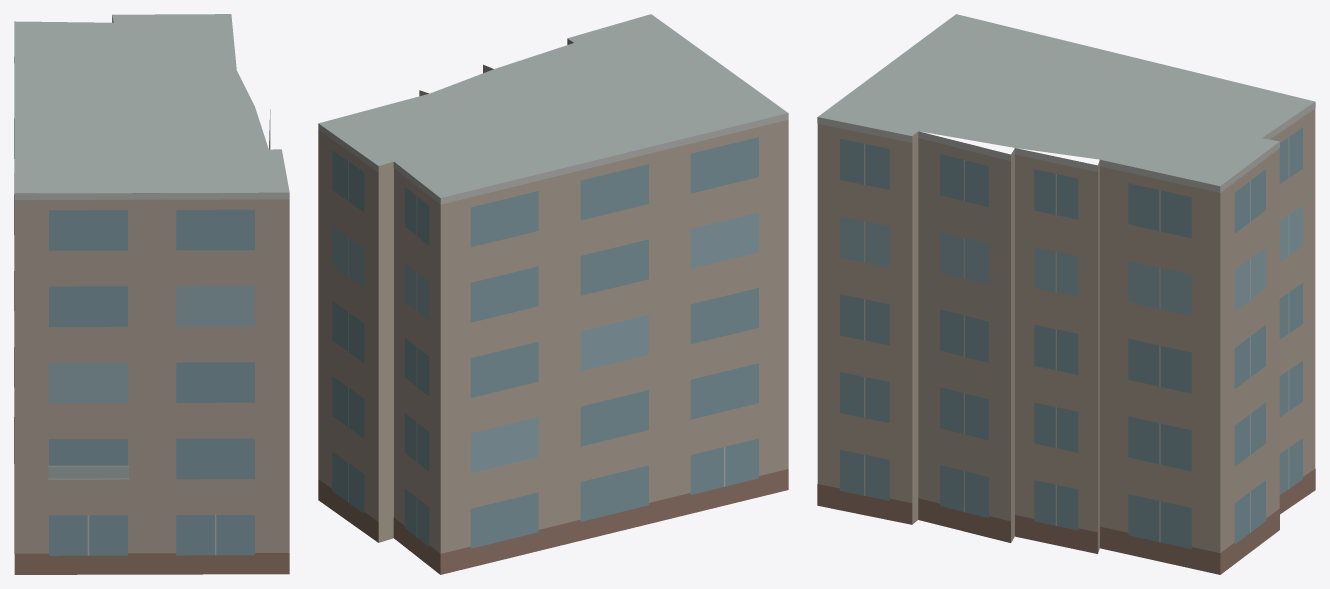
The model's file is survey-upis-33033234.glb.
3 views of the same model, side by side, from view 1: azimuth 30°, elevation 25°; view 2: azimuth 150°, elevation 25°; view 3: azimuth 270°, elevation 25° (orthographic). The views are drawn at different scales.
Visible parts, largest first — view 1: survey-upis-33033234.tmp; view 2: survey-upis-33033234.tmp; view 3: survey-upis-33033234.tmp.
Boxes of the visible parts, left/top/right/bottom form: survey-upis-33033234.tmp: left=14, top=14, right=289, bottom=574; survey-upis-33033234.tmp: left=318, top=14, right=788, bottom=574; survey-upis-33033234.tmp: left=817, top=14, right=1315, bottom=574.
Bounding box in the file's own units: 13.41 × 14.1 × 16.38.
